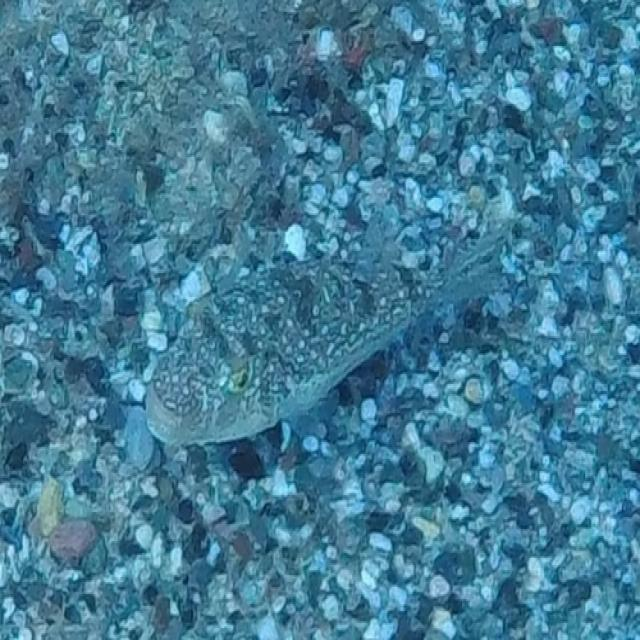Balik: (146, 224, 510, 445)
